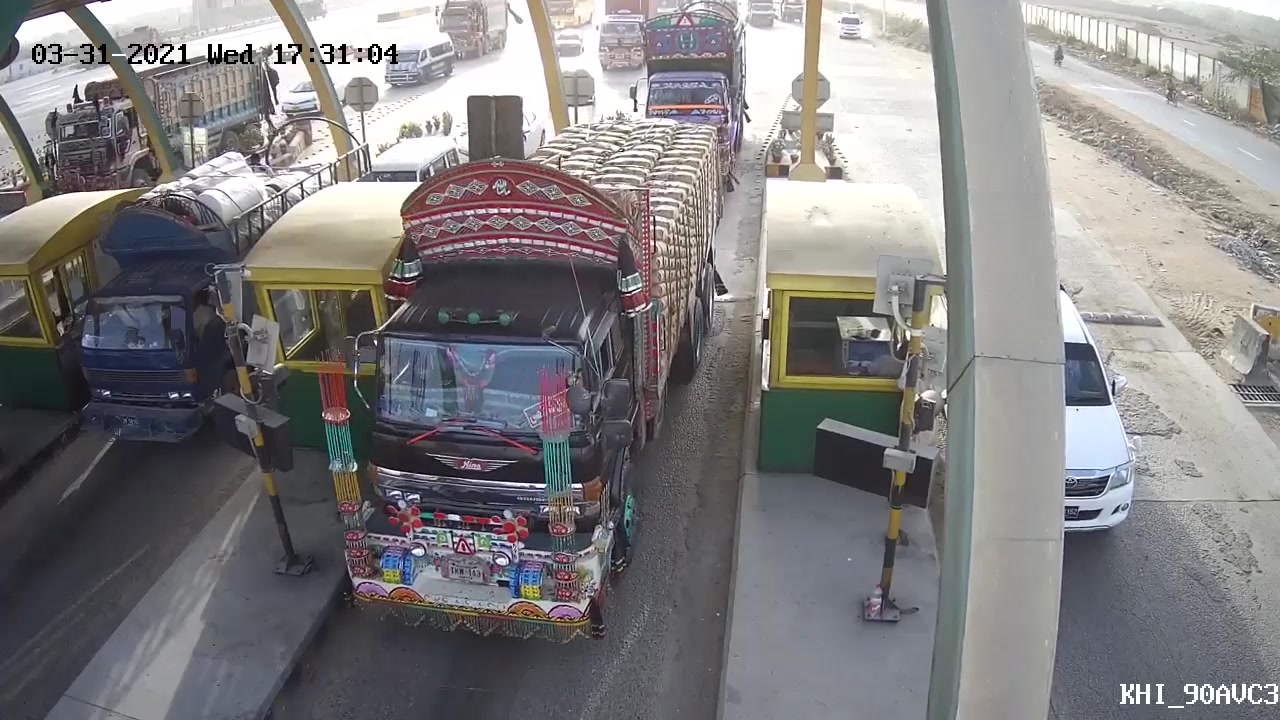F5: (334, 112, 726, 651)
